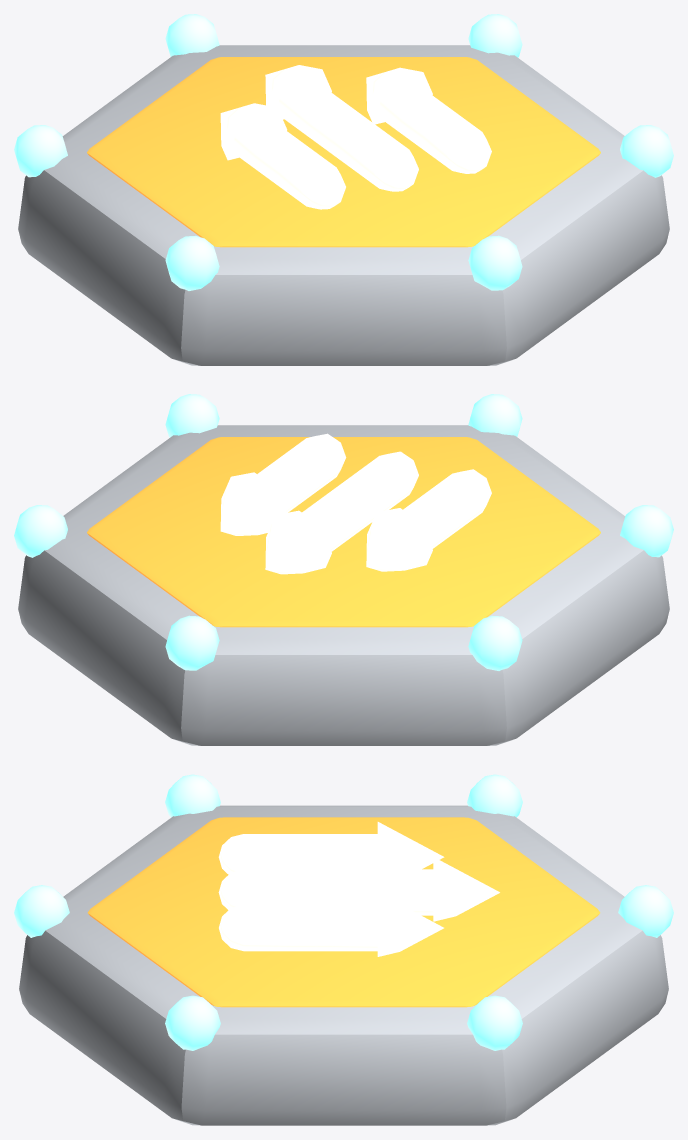
Rendered from power_gun.glb.
The picture shows the model from 3 angles, top to bottom: view 1: azimuth 30°, elevation 25°; view 2: azimuth 150°, elevation 25°; view 3: azimuth 270°, elevation 25°; orthographic projection.
Parts seen in each view (by area): view 1: power_gun; view 2: power_gun; view 3: power_gun.
Part boxes in pixels (box(x1,y1,x2,y2)): power_gun: box(14, 14, 673, 365); power_gun: box(14, 394, 673, 745); power_gun: box(14, 774, 673, 1125).
Bounding box in the file's own units: 0.5177 × 0.154 × 0.59.
